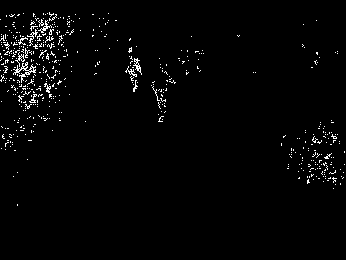person: (149, 62, 177, 123), (126, 45, 143, 92)
